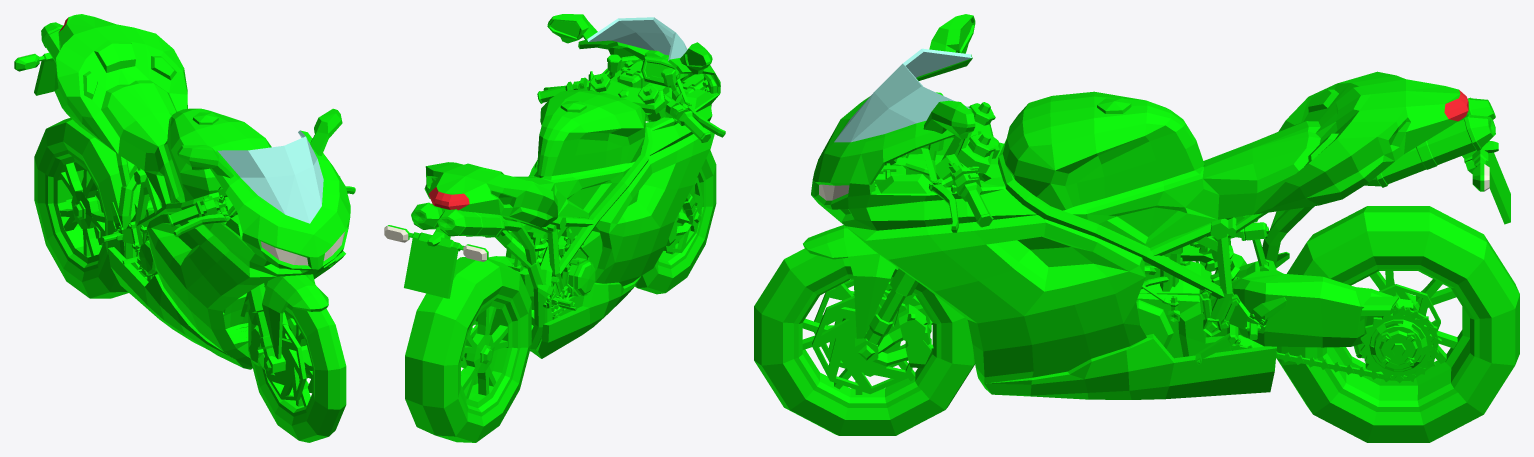
File: SM_Motorcycle_Sport_Modern.fbx
The picture shows the model from 3 angles, left to right: view 1: azimuth 30°, elevation 25°; view 2: azimuth 150°, elevation 25°; view 3: azimuth 270°, elevation 25°; orthographic projection. The views are drawn at different scales.
Parts seen in each view (by area): view 1: SM_Motorcycle_Sport_Modern_Base, SM_Motorcycle_Sport_Modern_Wheel_B, SM_Motorcycle_Sport_Modern_Wheel_F, SM_Motorcycle_Sport_Modern_Handlebars; view 2: SM_Motorcycle_Sport_Modern_Base, SM_Motorcycle_Sport_Modern_Wheel_B, SM_Motorcycle_Sport_Modern_Handlebars, SM_Motorcycle_Sport_Modern_Wheel_F; view 3: SM_Motorcycle_Sport_Modern_Base, SM_Motorcycle_Sport_Modern_Wheel_B, SM_Motorcycle_Sport_Modern_Wheel_F, SM_Motorcycle_Sport_Modern_Handlebars.
Boxes of the visible parts, bbox=[...] form: SM_Motorcycle_Sport_Modern_Base: bbox=[14, 14, 350, 369]; SM_Motorcycle_Sport_Modern_Wheel_B: bbox=[34, 117, 140, 298]; SM_Motorcycle_Sport_Modern_Wheel_F: bbox=[248, 303, 346, 442]; SM_Motorcycle_Sport_Modern_Handlebars: bbox=[167, 176, 355, 374]; SM_Motorcycle_Sport_Modern_Base: bbox=[384, 14, 720, 385]; SM_Motorcycle_Sport_Modern_Wheel_B: bbox=[405, 257, 531, 442]; SM_Motorcycle_Sport_Modern_Handlebars: bbox=[537, 54, 725, 246]; SM_Motorcycle_Sport_Modern_Wheel_F: bbox=[635, 150, 716, 294]; SM_Motorcycle_Sport_Modern_Base: bbox=[811, 14, 1510, 399]; SM_Motorcycle_Sport_Modern_Wheel_B: bbox=[1276, 206, 1519, 442]; SM_Motorcycle_Sport_Modern_Wheel_F: bbox=[754, 248, 974, 435]; SM_Motorcycle_Sport_Modern_Handlebars: bbox=[803, 92, 1000, 368].
Bounding box in the file's own units: 0.7563 × 1.12 × 2.09.
